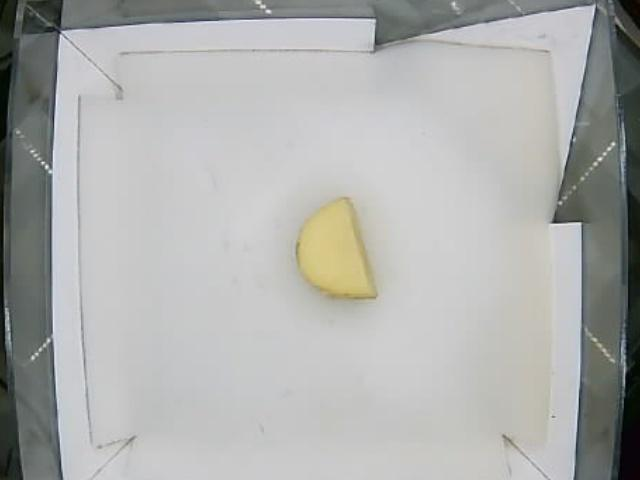Potato: (294, 197, 381, 297)
